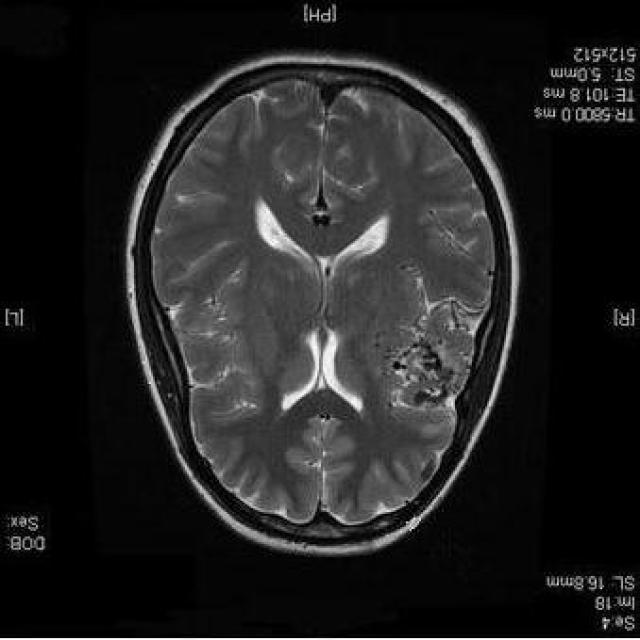notumor: (126, 53, 517, 555)
